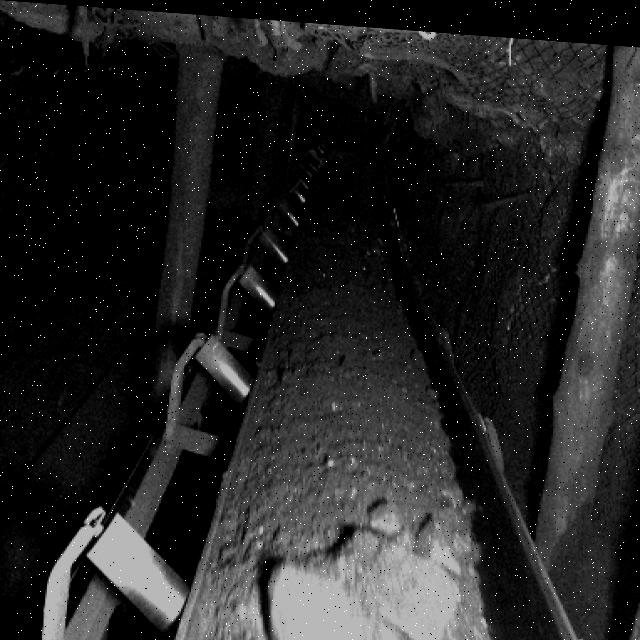large_sized_coal: (335, 521, 462, 640), (268, 558, 374, 640), (415, 506, 471, 565), (369, 497, 407, 531)
